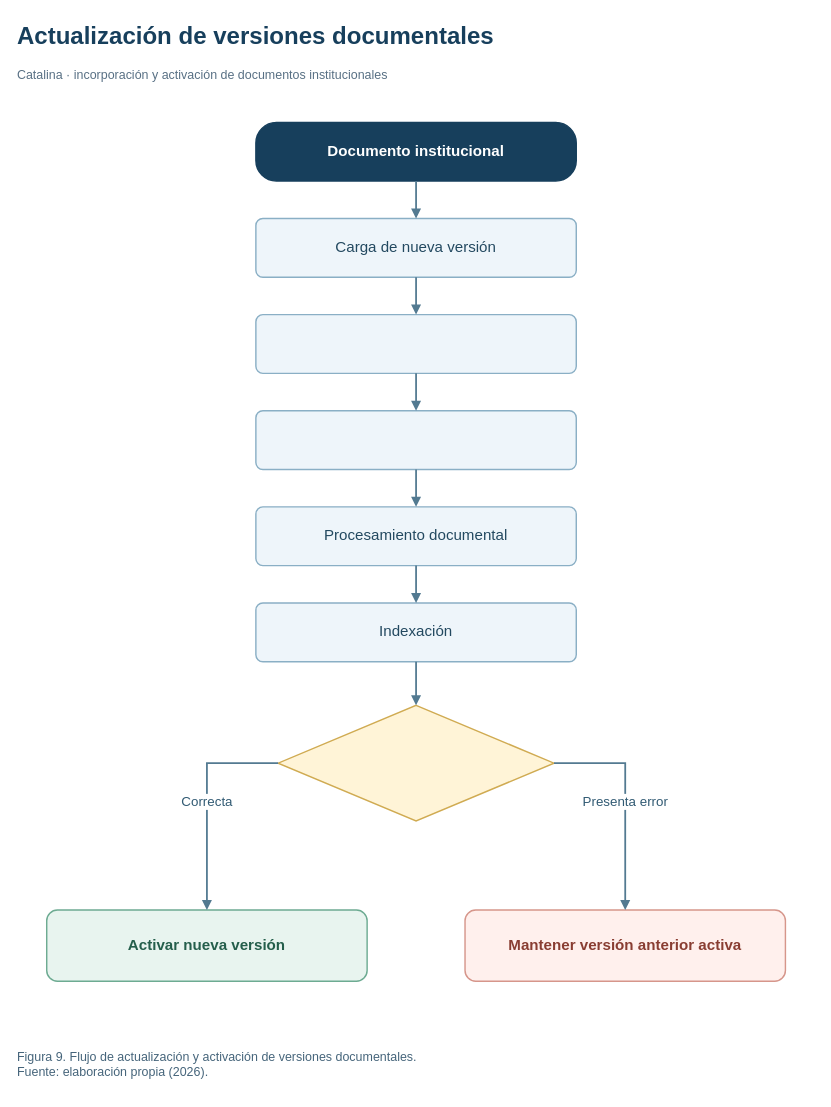
This 831x1107 diagram has some shape labels left out. The centre of each missing label's shape, as x and y in pixels:
"Registro de versión" goes at [416,440].
"Validación de archivo y metadatos" goes at [416,343].
"¿Validación correcta?" goes at [415,762].
